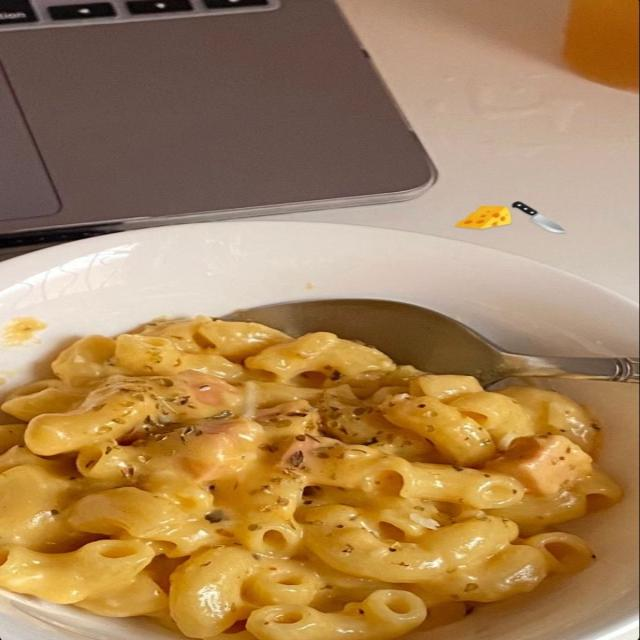pasta: (65, 321, 513, 633)
